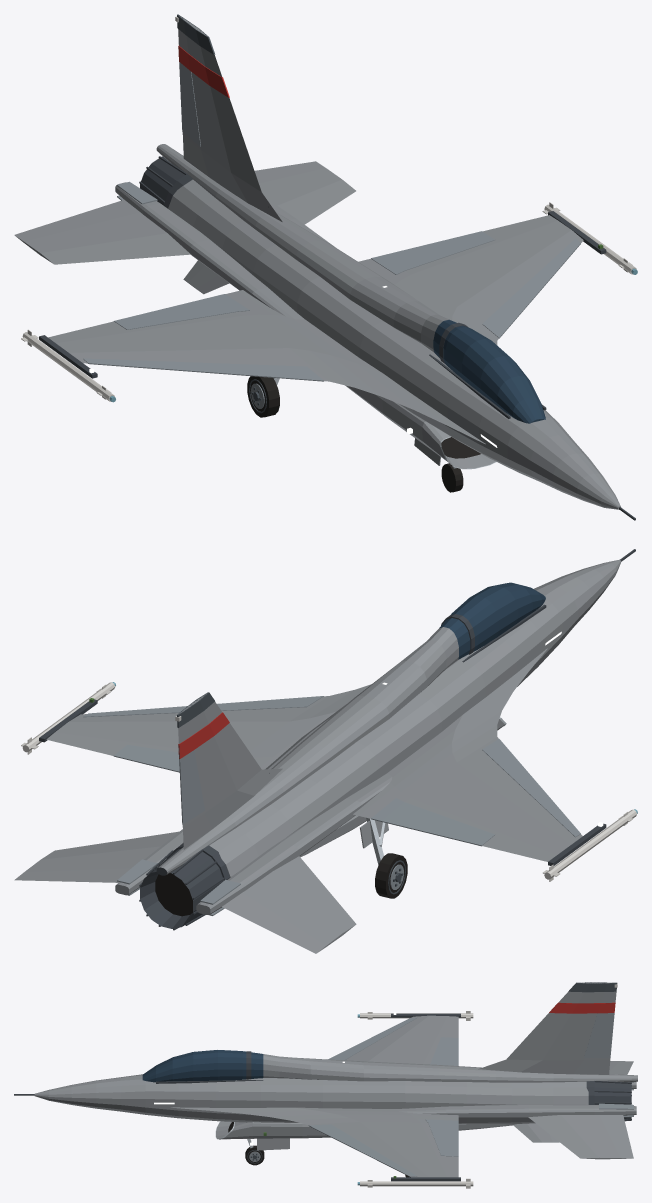
3 renders of one model, top to bottom at view 1: azimuth 30°, elevation 25°; view 2: azimuth 150°, elevation 25°; view 3: azimuth 270°, elevation 25°, orthographic. The views are drawn at different scales.
Parts seen in each view (by area): view 1: fuselage, wings, tail, cockpit, gear, stores; view 2: fuselage, wings, tail, cockpit, gear, stores; view 3: fuselage, tail, wings, cockpit, stores, gear.
Boxes of the visible parts, x1,y1,x2,y2 form: fuselage: (156,144,635,520); wings: (39,211,606,444); tail: (14,14,355,319); cockpit: (429,319,546,423); gear: (247,376,463,492); stores: (21,202,637,402); fuselage: (156,549,635,877); wings: (39,648,606,865); tail: (14,692,392,953); cockpit: (439,582,546,662); gear: (360,817,407,898); stores: (21,682,637,881); fuselage: (14,1054,637,1139); tail: (395,982,636,1159); wings: (171,1012,460,1181); cockpit: (142,1050,263,1083); stores: (357,1011,473,1188); gear: (245,1138,410,1177).
Size of what is drawn, in the model's own units: 9.9 by 4.85 by 15.15.
